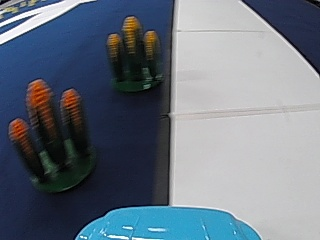corn: (10, 81, 93, 196), (105, 16, 163, 94)
